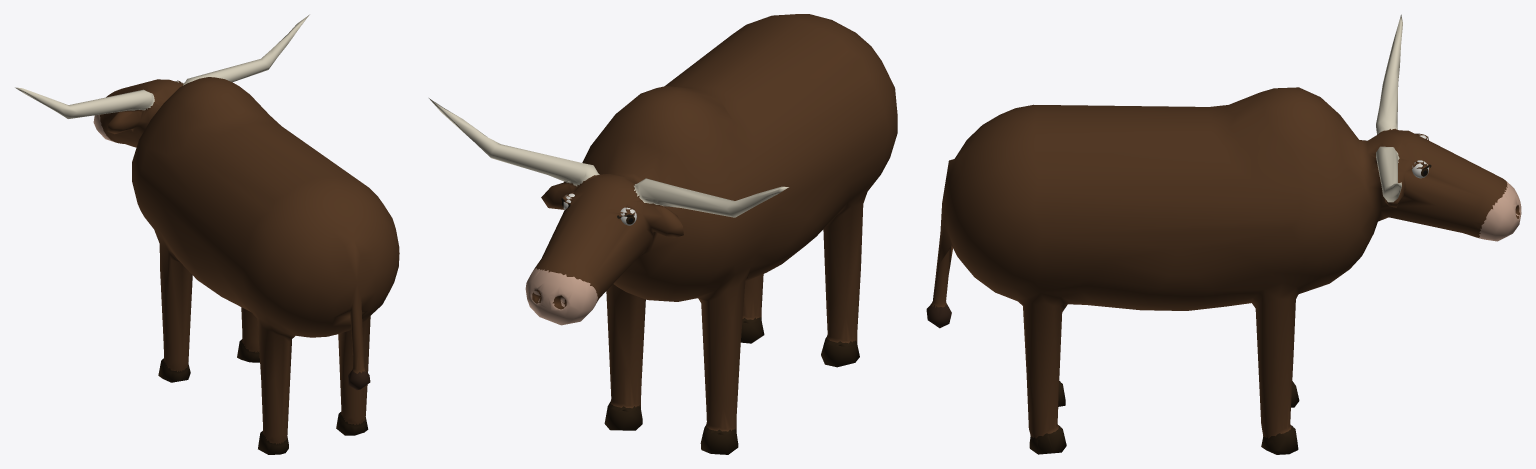
File: cow-c.glb
3 views of the same model, side by side, from view 1: azimuth 30°, elevation 25°; view 2: azimuth 150°, elevation 25°; view 3: azimuth 270°, elevation 25° (orthographic). The views are drawn at different scales.
Visible parts, largest first — view 1: body_lod0; view 2: body_lod0; view 3: body_lod0.
Boxes of the visible parts, box(x1,y1,x2,y2) form: body_lod0: box(15, 14, 399, 454); body_lod0: box(429, 14, 897, 454); body_lod0: box(926, 14, 1521, 454).
Size of what is drawn, in the model's own units: 1.81 by 1.66 by 2.69.
